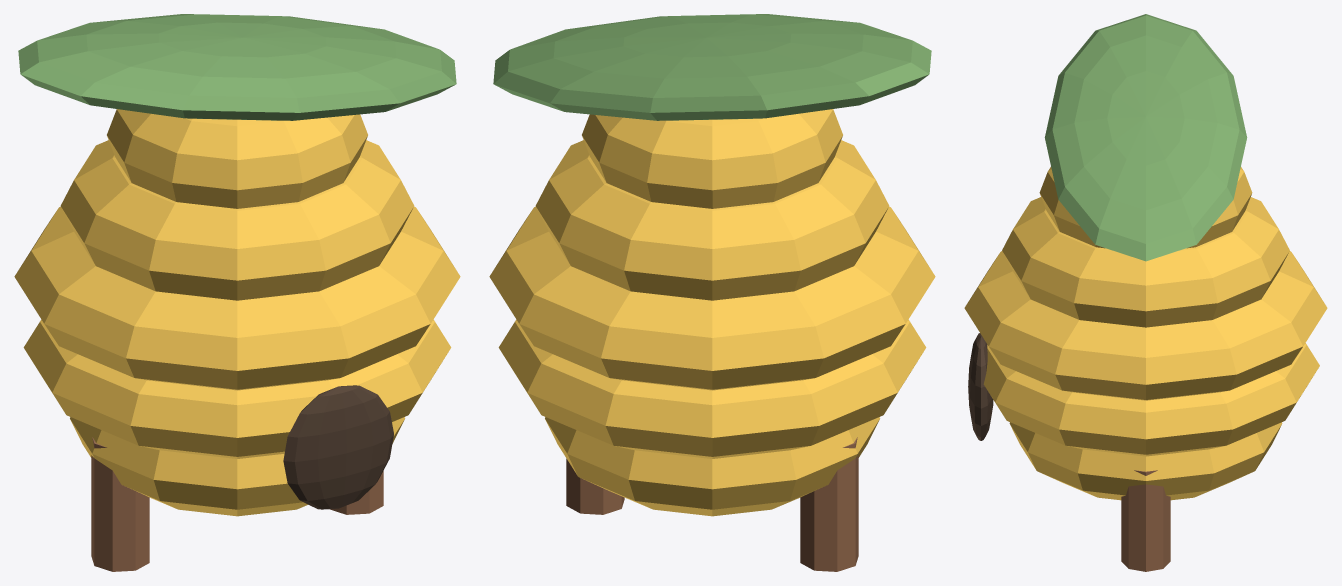
File: BeeHome.fbx
3 views of the same model, side by side, from view 1: azimuth 30°, elevation 25°; view 2: azimuth 150°, elevation 25°; view 3: azimuth 270°, elevation 25° (orthographic). The views are drawn at different scales.
Visible parts, largest first — view 1: Hive coil.002, Leaf awning, Hive coil.003, Hive coil.001, Hive coil.004, Hive coil, Hive entrance, Stilt, Stilt.001; view 2: Hive coil.002, Leaf awning, Hive coil.003, Hive coil.001, Hive coil.004, Hive coil, Stilt, Stilt.001; view 3: Leaf awning, Hive coil.002, Hive coil.003, Hive coil.001, Hive coil, Stilt.001, Hive coil.004, Hive entrance.
Boxes of the visible parts, x1,y1,x2,y2 form: Hive coil.002: (14,206,460,390); Leaf awning: (18,14,456,120); Hive coil.003: (60,140,414,300); Hive coil.001: (23,319,451,458); Hive coil.004: (107,109,367,208); Hive coil: (70,417,404,516); Hive entrance: (283,385,393,509); Stilt: (91,437,149,571); Stilt.001: (330,471,383,514); Hive coil.002: (489,206,935,390); Leaf awning: (493,14,931,120); Hive coil.003: (535,140,889,300); Hive coil.001: (498,319,926,458); Hive coil.004: (582,109,842,208); Hive coil: (545,417,879,516); Stilt: (800,437,858,571); Stilt.001: (566,458,624,514); Leaf awning: (1044,14,1247,261); Hive coil.002: (964,251,1327,400); Hive coil.003: (1002,197,1289,327); Hive coil.001: (983,343,1319,456); Hive coil: (1009,422,1282,500); Stilt.001: (1121,470,1170,571); Hive coil.004: (1039,167,1252,248); Hive entrance: (968,333,993,440).
Size of the model in its own units: 141 by 161 by 126.
